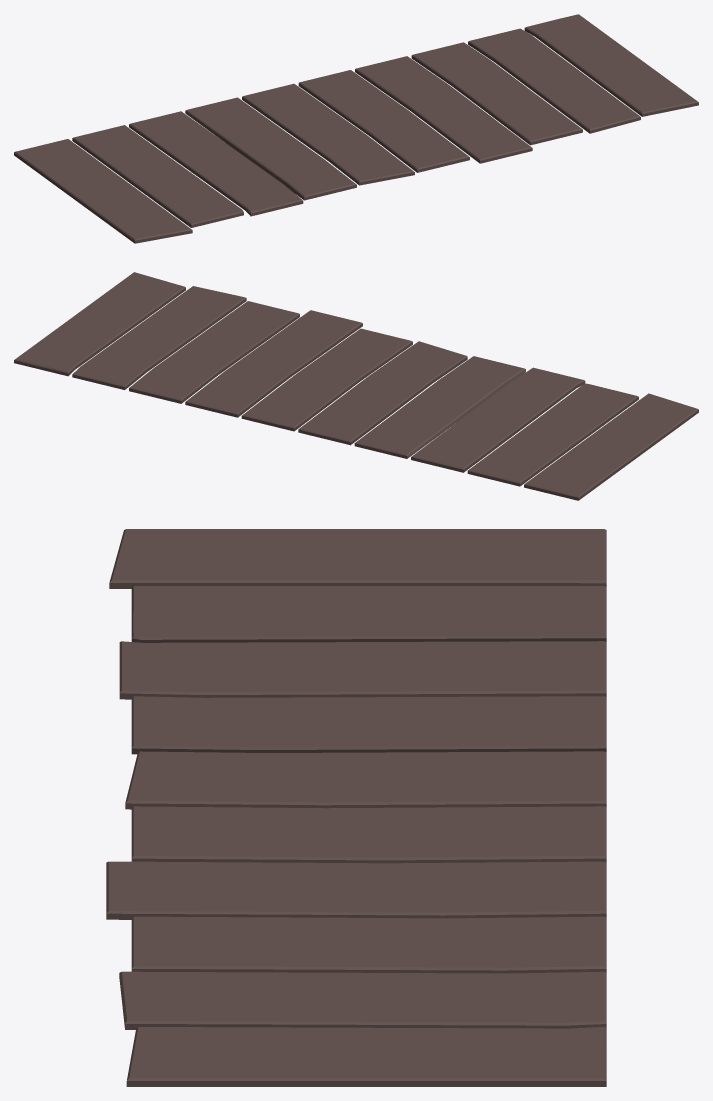
File: Module_Building_Deck_Front.fbx
3 renders of one model, top to bottom at view 1: azimuth 30°, elevation 25°; view 2: azimuth 150°, elevation 25°; view 3: azimuth 270°, elevation 25°, orthographic. The views are drawn at different scales.
Parts seen in each view (by area): view 1: Module_Building_Deck_Front; view 2: Module_Building_Deck_Front; view 3: Module_Building_Deck_Front.
Part boxes in pixels (x1,y1,x2,y2): Module_Building_Deck_Front: (14,14,698,243); Module_Building_Deck_Front: (14,272,698,500); Module_Building_Deck_Front: (106,529,606,1086).
Bounding box in the file's own units: 300 × 2 × 115.
